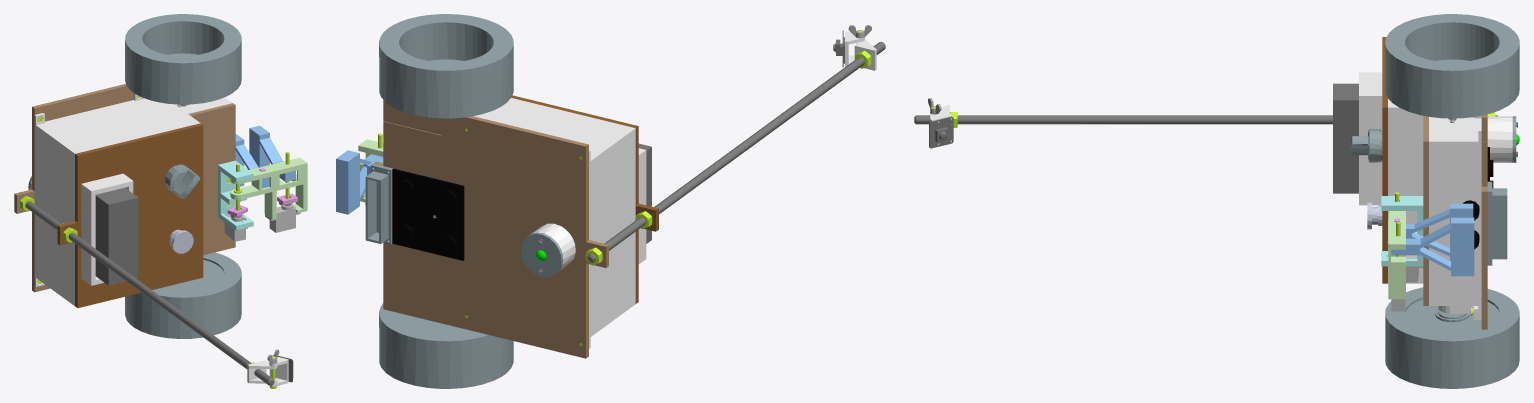
Rendered from chassis_without_obstacle.obj.
3 views of the same model, side by side, from view 1: azimuth 30°, elevation 25°; view 2: azimuth 150°, elevation 25°; view 3: azimuth 270°, elevation 25° (orthographic). The views are drawn at different scales.
Visible parts, largest first — view 1: chassis_bg; view 2: chassis_bg; view 3: chassis_bg.
Boxes of the visible parts, left/top/right/bottom form: chassis_bg: left=14, top=14, right=307, bottom=388; chassis_bg: left=336, top=14, right=885, bottom=388; chassis_bg: left=914, top=14, right=1519, bottom=388.
Bounding box in the file's own units: 0.285 × 0.3 × 0.5175.
